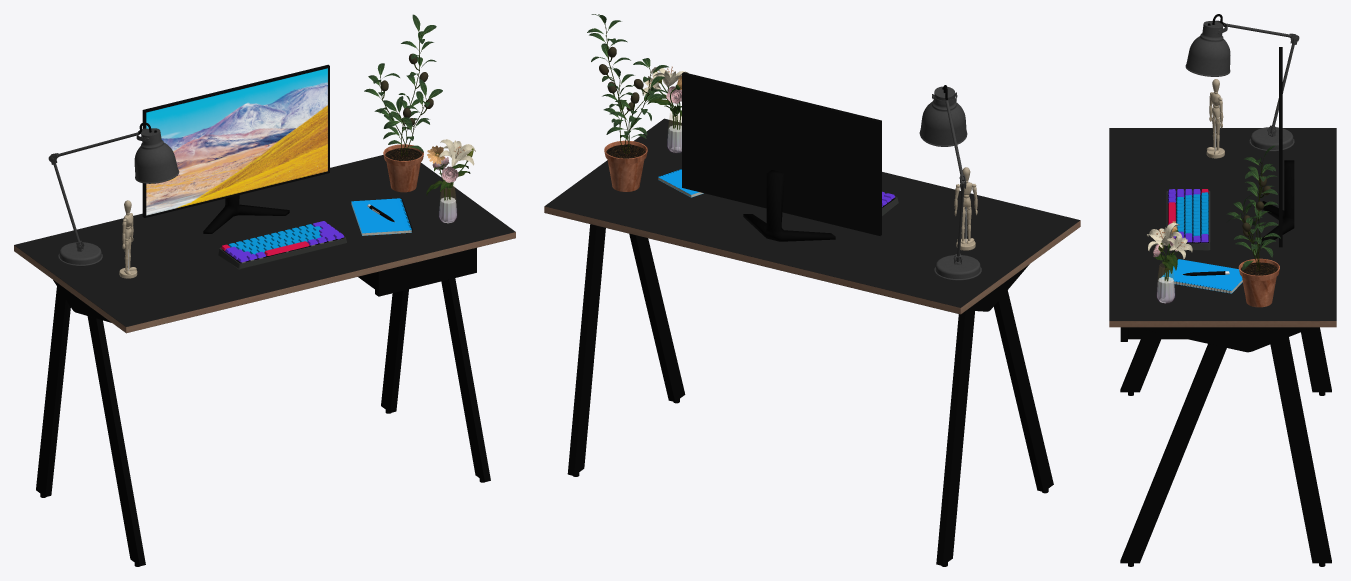
File: desk.gltf
The picture shows the model from 3 angles, left to right: view 1: azimuth 30°, elevation 25°; view 2: azimuth 150°, elevation 25°; view 3: azimuth 270°, elevation 25°; orthographic projection. The views are drawn at different scales.
Parts seen in each view (by area): view 1: Desk, Monitor, PottedPlant.002, DeskLamp, Keyboard, Flowers, Notepad, MonitorStand, Mannequin; view 2: Desk, Monitor, PottedPlant.002, DeskLamp, MonitorStand, Flowers, Mannequin; view 3: Desk, PottedPlant.002, DeskLamp, Keyboard, Notepad, Flowers, MonitorStand, Mannequin, Monitor.
Part boxes in pixels (bbox=[...]): Desk: bbox=[14, 155, 515, 566]; Monitor: bbox=[142, 64, 329, 217]; PottedPlant.002: bbox=[364, 14, 442, 192]; DeskLamp: bbox=[48, 122, 179, 266]; Keyboard: bbox=[218, 221, 346, 269]; Flowers: bbox=[426, 139, 475, 223]; Notepad: bbox=[351, 198, 412, 235]; MonitorStand: bbox=[203, 195, 289, 233]; Mannequin: bbox=[119, 200, 137, 278]; Desk: bbox=[544, 118, 1080, 566]; Monitor: bbox=[682, 72, 881, 235]; PottedPlant.002: bbox=[587, 14, 668, 191]; DeskLamp: bbox=[919, 85, 981, 280]; MonitorStand: bbox=[743, 170, 835, 241]; Flowers: bbox=[642, 66, 688, 152]; Mannequin: bbox=[954, 167, 977, 250]; Desk: bbox=[1109, 128, 1336, 566]; PottedPlant.002: bbox=[1226, 145, 1280, 307]; DeskLamp: bbox=[1185, 14, 1299, 151]; Keyboard: bbox=[1166, 189, 1210, 250]; Notepad: bbox=[1160, 259, 1242, 293]; Flowers: bbox=[1147, 221, 1192, 303]; MonitorStand: bbox=[1261, 160, 1294, 245]; Mannequin: bbox=[1206, 79, 1224, 158]; Monitor: bbox=[1279, 47, 1282, 247].
Size of the model in its own units: 1.2 by 1.22 by 0.596.
75 materials, 8 textured.
